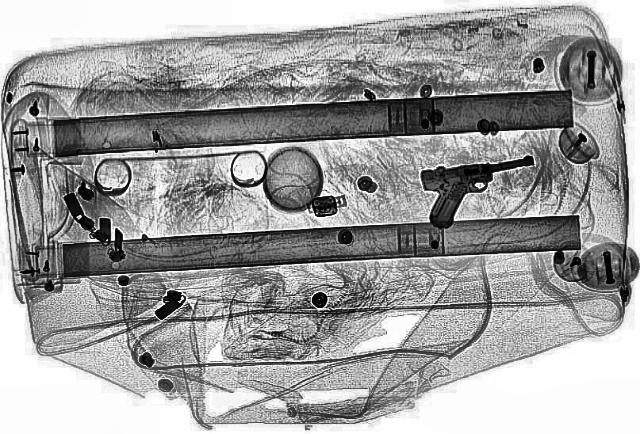Gun: (413, 156, 547, 228)
